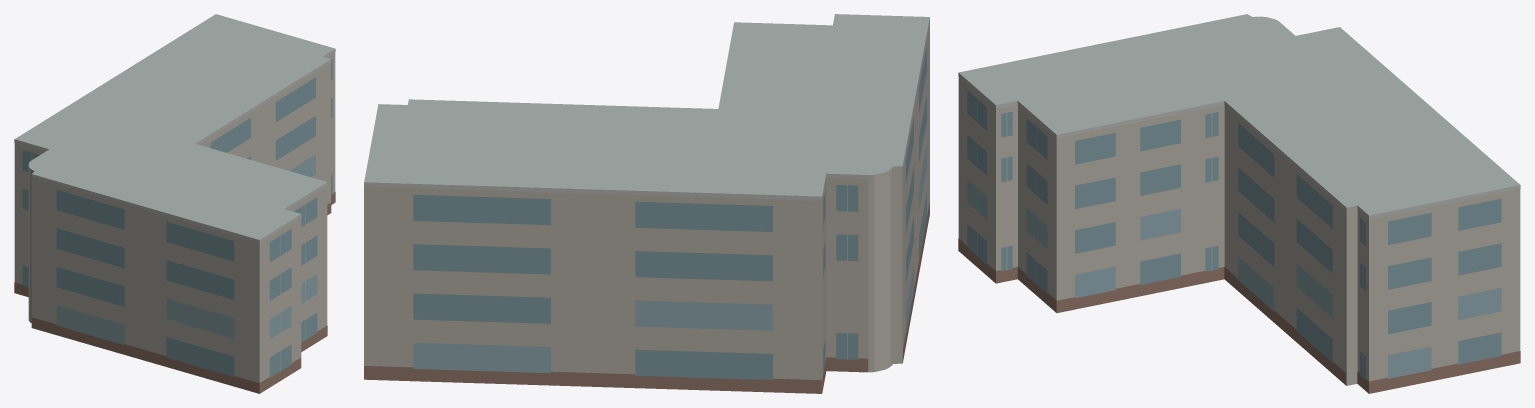
The model's file is survey-upis-32978811.glb.
3 views of the same model, side by side, from view 1: azimuth 30°, elevation 25°; view 2: azimuth 150°, elevation 25°; view 3: azimuth 270°, elevation 25° (orthographic). The views are drawn at different scales.
Parts seen in each view (by area): view 1: survey-upis-32978811.tmp; view 2: survey-upis-32978811.tmp; view 3: survey-upis-32978811.tmp.
Boxes of the visible parts, box(x1,y1,x2,y2) form: survey-upis-32978811.tmp: box(14, 14, 335, 393); survey-upis-32978811.tmp: box(364, 14, 929, 393); survey-upis-32978811.tmp: box(958, 14, 1520, 393).
Size of the model in its own units: 26.91 by 11.1 by 31.7.
